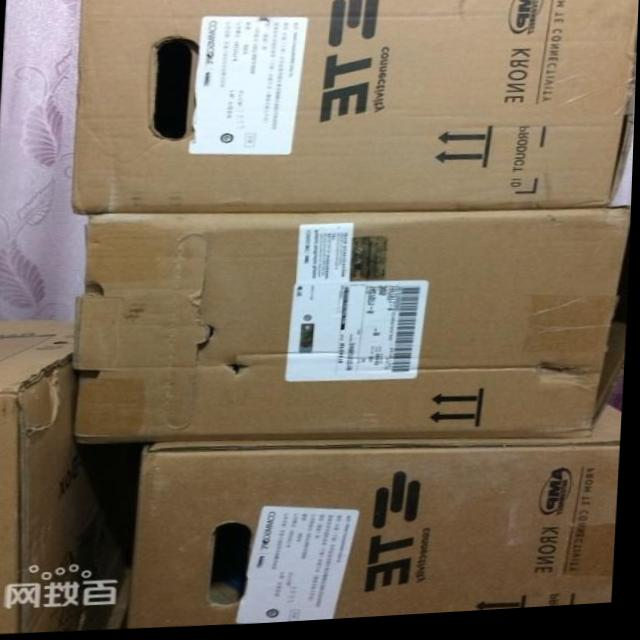box: (72, 213, 633, 443), (74, 0, 639, 214), (132, 411, 625, 627), (0, 320, 145, 632)
